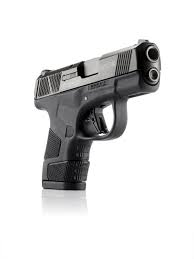gun: (32, 38, 163, 192)
